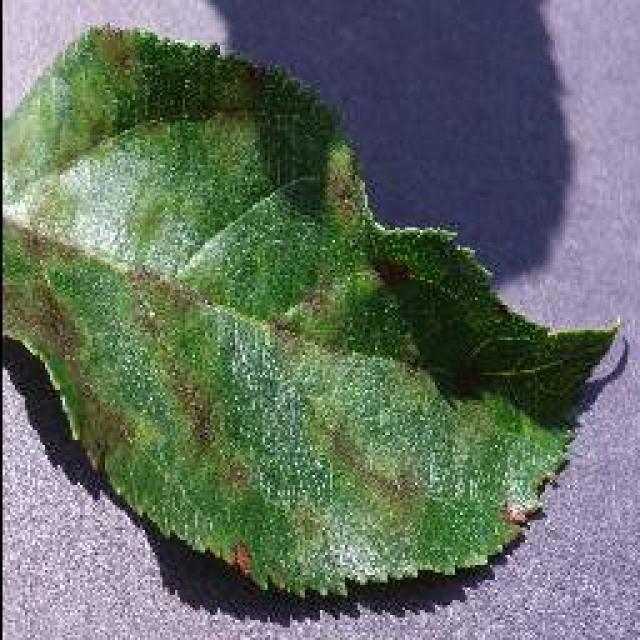apple scab disease: (0, 20, 620, 602)
